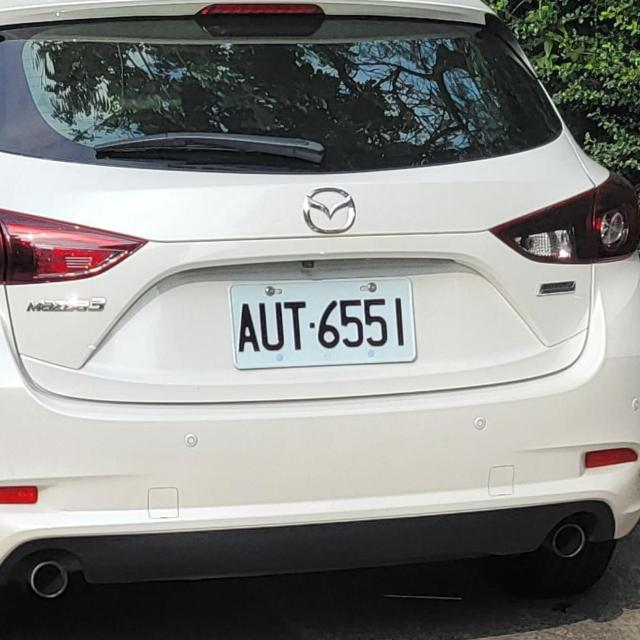W: (223, 268, 422, 380)
